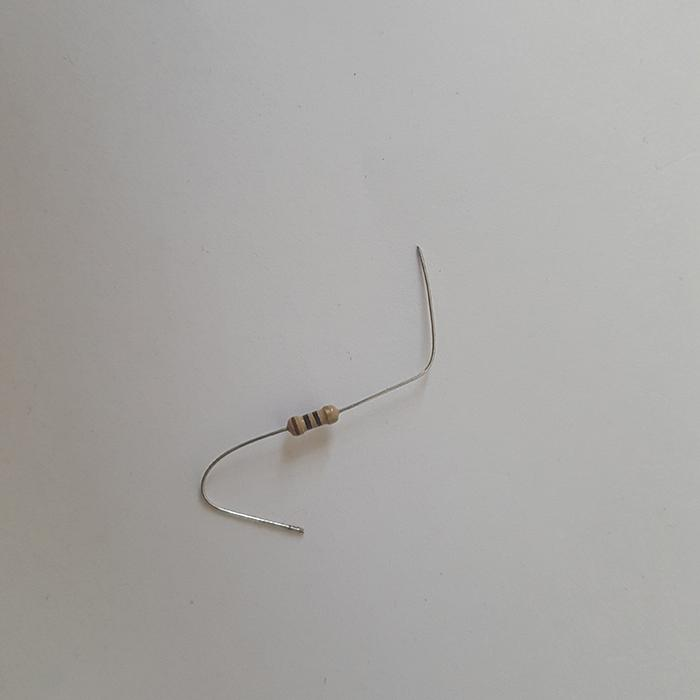resistor: (285, 402, 339, 436)
